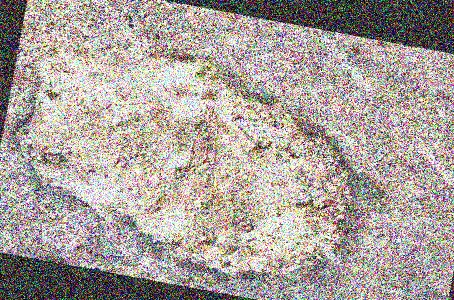pothole: (0, 13, 412, 300)
